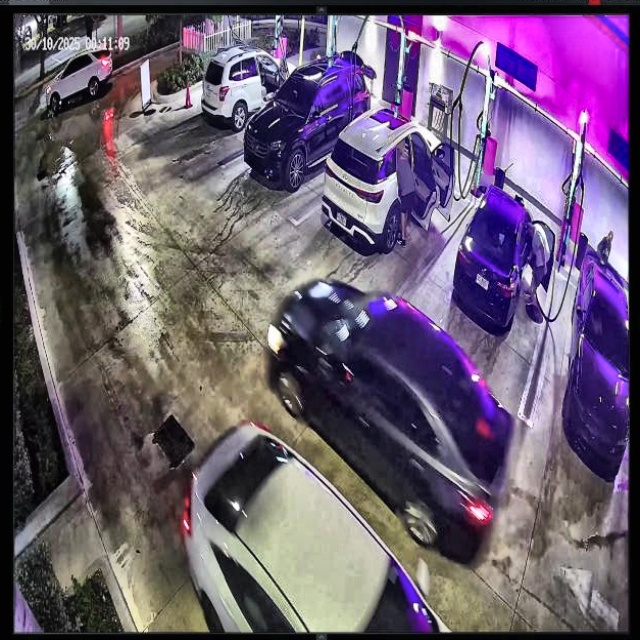Car: (266, 278, 513, 564), (179, 419, 448, 640), (328, 104, 451, 254), (249, 55, 369, 185), (452, 186, 548, 324)
